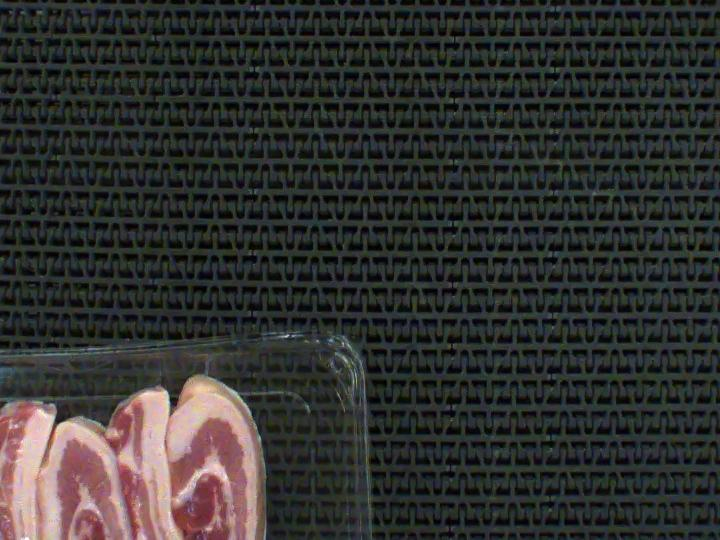packaging-error: (147, 319, 253, 385)
